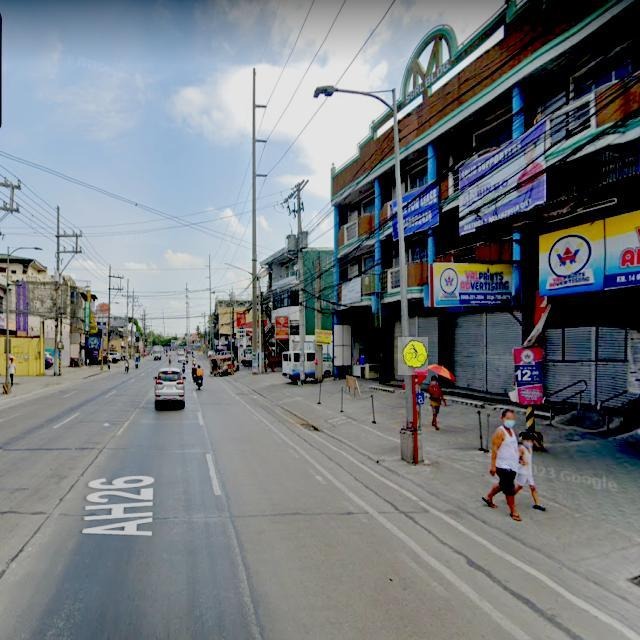bike lane: (398, 337, 428, 375)
